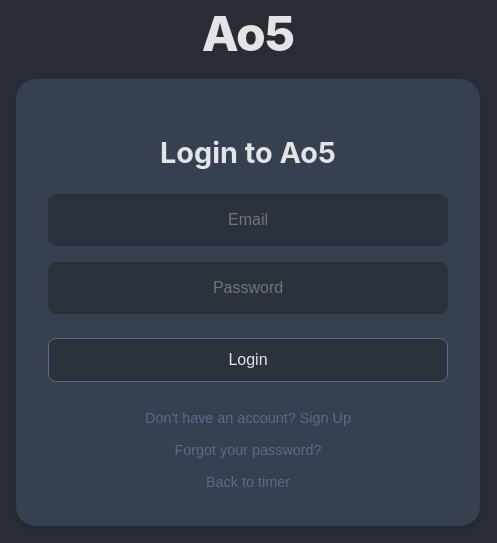
Test: Auth modes › switches to reset mode via link
Click the button "Forgot your password?" at point(248, 450), box [48,438,448,462]
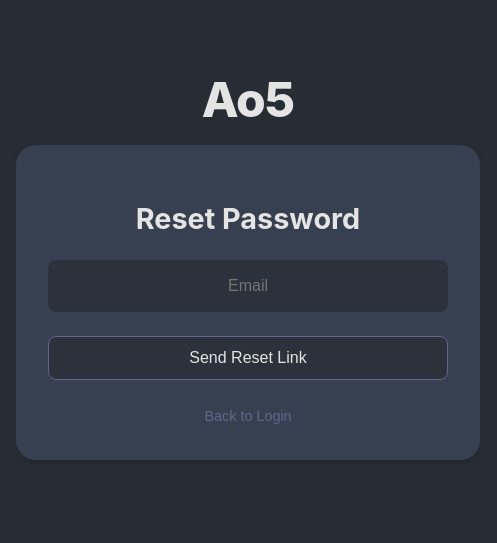
Expected: the field with placeholder "Email" is shown, [48,260,448,312]
Expected: the heading "Reset Password" is shown, [136,201,360,236]
Expected: the button "Send Reset Link" is shown, [48,336,448,380]
